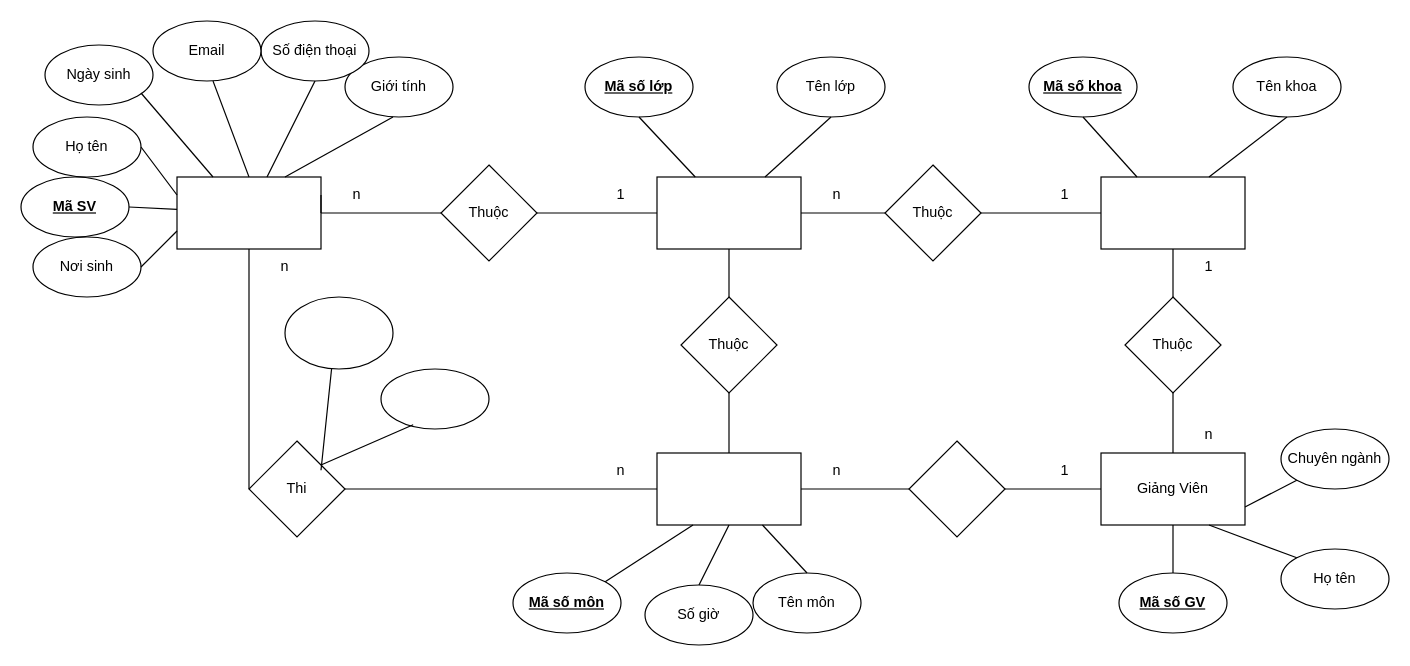
Some shapes in this 1410 by 666 pixel diagram are drawn without their labels. The shapes that lost their labels are listed below. From the top down, each one's centre as x and y in pixels, then its label:
point 248,212: Sinh Viên
point 728,212: Lớp Học
point 1172,212: Khoa
point 338,332: Lần thi
point 434,398: Điểm thi
point 728,488: Môn Học
point 956,488: Giảng dạy
